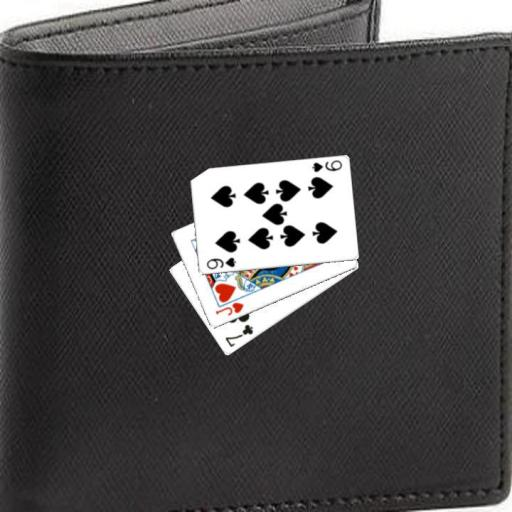7C: (222, 322, 254, 349)
9S: (309, 157, 344, 174), (203, 255, 238, 271)
JH: (212, 300, 245, 318)
